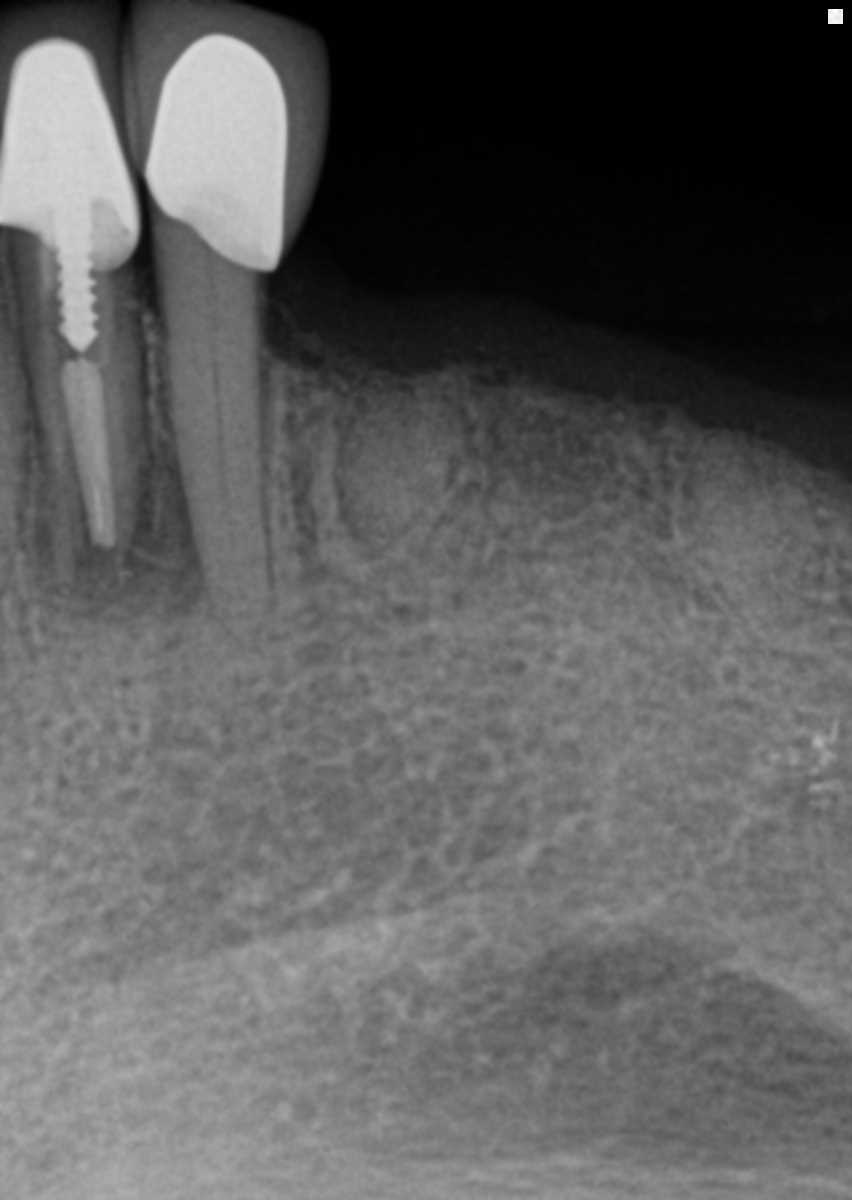Main Canal: (215, 339, 236, 564)
Main Root: (160, 323, 275, 642), (27, 309, 148, 587)
Root Canal Filling: (59, 356, 119, 542)
